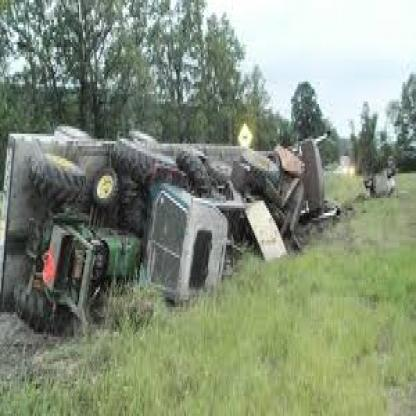accident: (6, 110, 338, 342)
